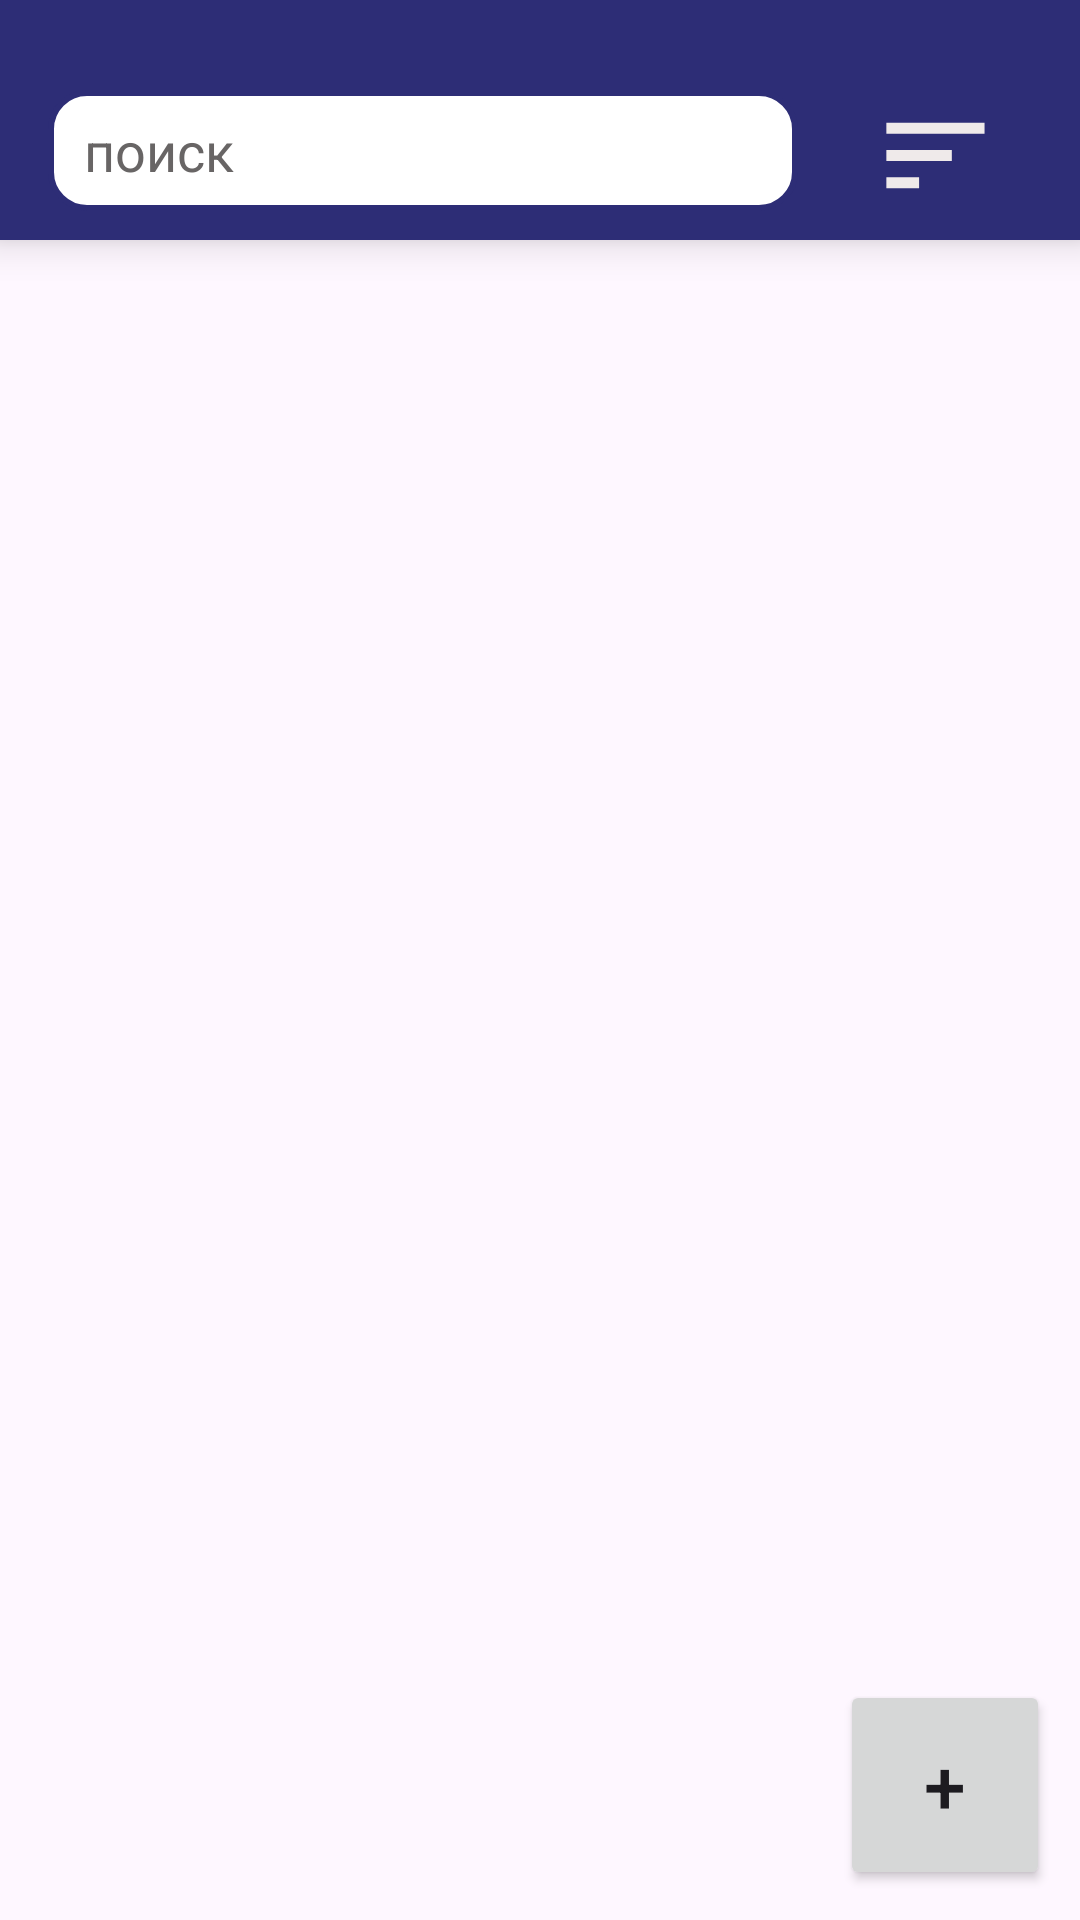

Screen size 1080×1920. Icon name, then its box in pixels as [x1,y1,x2,y2]:
sort: [886,122,985,189]
